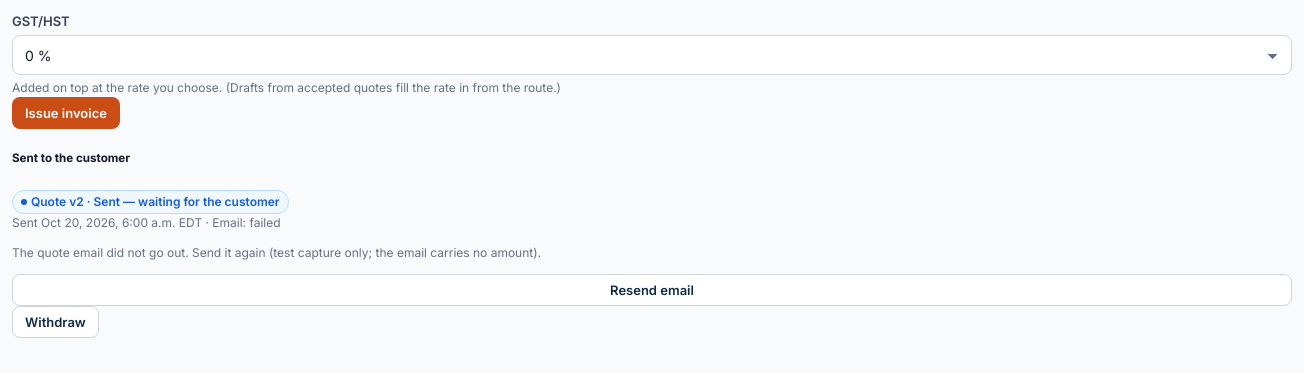
Test: Resend a quote email › offers Resend for a failed email and reports the new outcome
Expected: the text "did not go out" is shown, [12,245,541,260]
Click the button with aria-label "Resend email — Lan Tran" at (652, 290), box [12,274,1292,306]
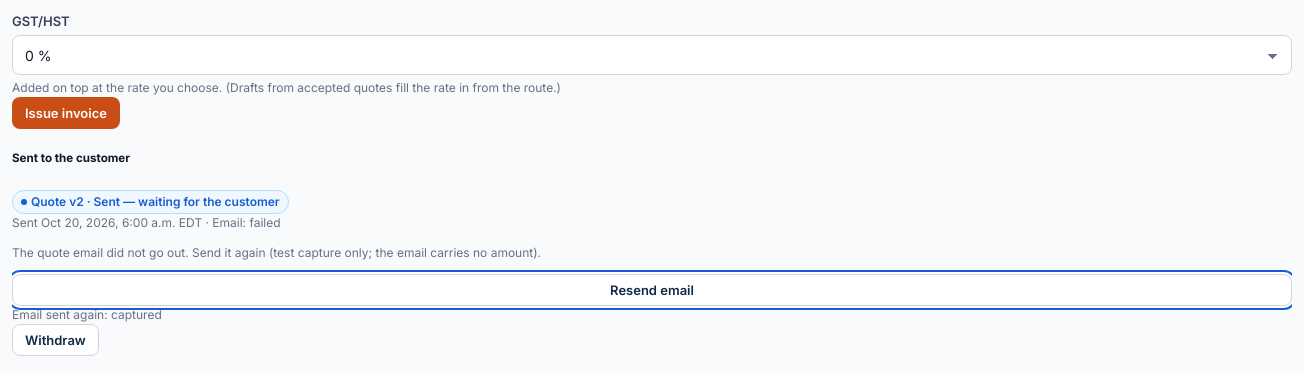
Expected: the text "Email sent again: captured" is shown, [12,307,162,322]
